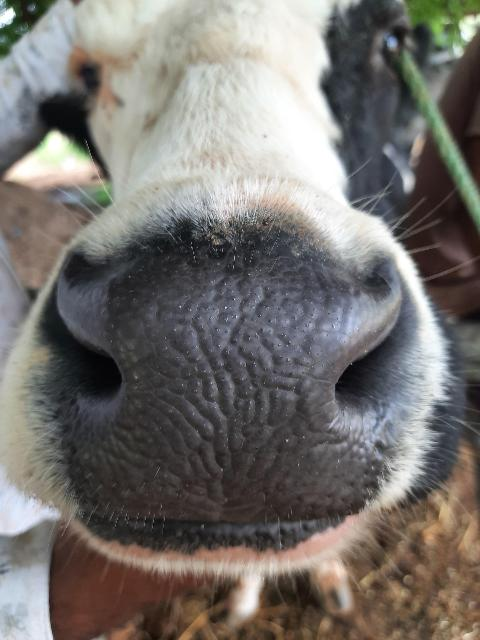Muzzle: (63, 253, 398, 529)
